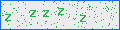z: (4, 14, 12, 21), (30, 10, 36, 17), (43, 10, 49, 17), (58, 8, 64, 15), (80, 15, 86, 22)
